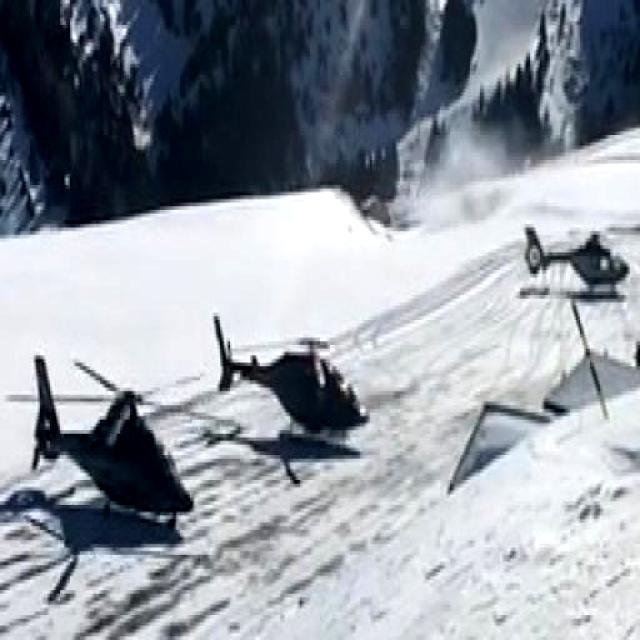drone: (18, 341, 199, 551), (209, 294, 370, 452), (512, 218, 640, 296)
